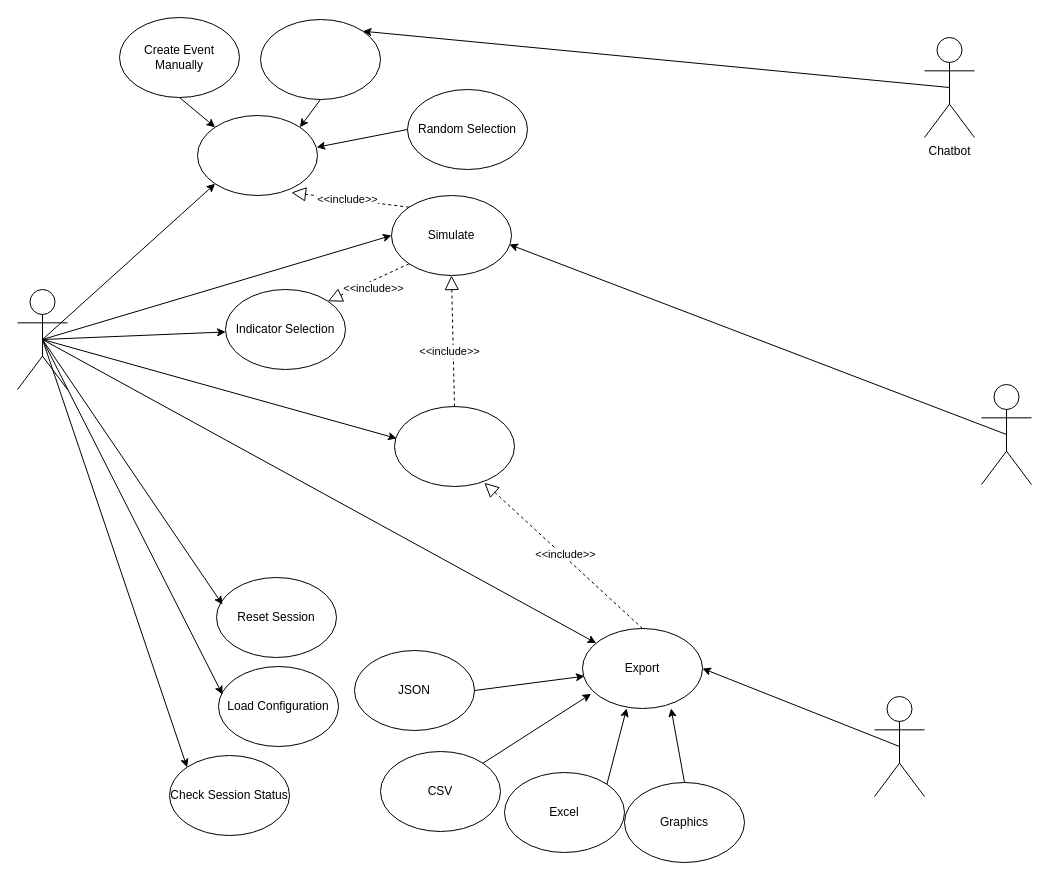
Some shapes in this 1049 by 880 pixel diagram are drawn without their labels. The shapes that lost their labels are listed below. From the top down, each one's centre as x and y in pixels, then its label:
pixel 320 59: Create Event Chatbot
pixel 257 155: Event Manager
pixel 42 339: User
pixel 454 446: Visualize
pixel 1006 434: Model
pixel 899 746: Exportation System
